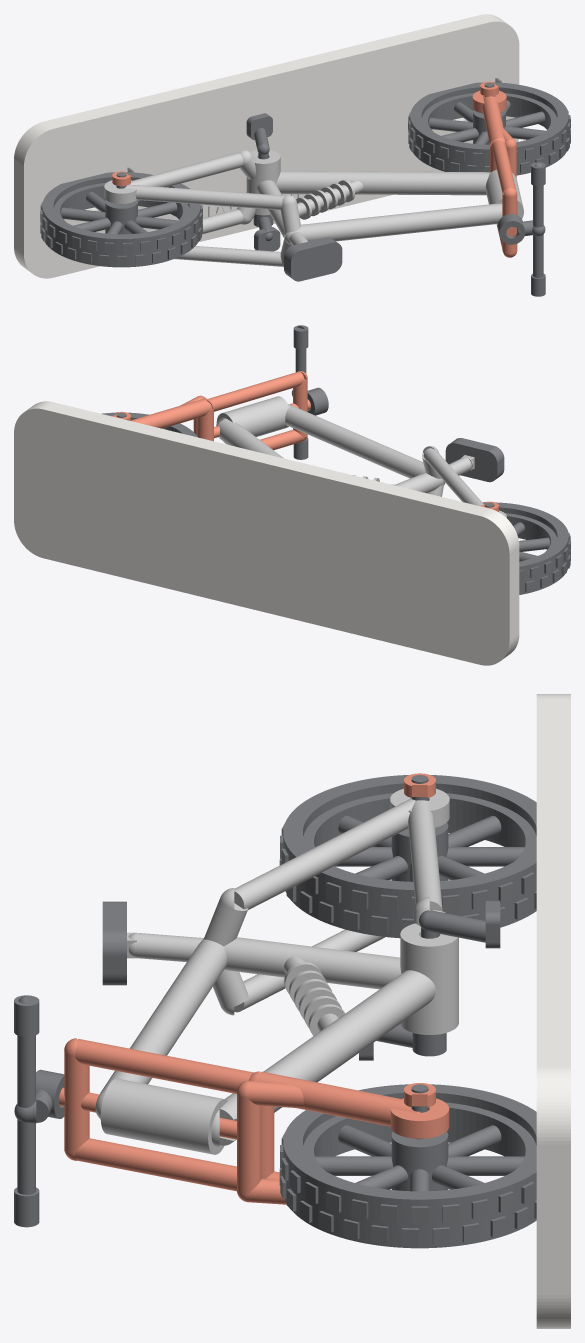
Rendered from dayrally-mini-drop.glb.
3 views of the same model, one above another, from view 1: azimuth 30°, elevation 25°; view 2: azimuth 150°, elevation 25°; view 3: azimuth 270°, elevation 25° (orthographic). The views are drawn at different scales.
Parts seen in each view (by area): view 1: mini-drop-display-base__1, mini-drop-frame__2, mini-wheel-28__8, mini-wheel-28__11, mini-drop-fork__3, mini-drop-cockpit__4, mini-drop-saddle__5, mini-drop-crank-r__6, mini-drop-crank-l__7; view 2: mini-drop-display-base__1, mini-drop-frame__2, mini-drop-fork__3, mini-wheel-28__8, mini-drop-saddle__5, mini-drop-cockpit__4; view 3: mini-drop-frame__2, mini-wheel-28__11, mini-wheel-28__8, mini-drop-display-base__1, mini-drop-fork__3, mini-drop-cockpit__4, mini-drop-crank-r__6, mini-drop-saddle__5, mini-drop-crank-l__7.
Boxes of the visible parts, bbox=[...] form: mini-drop-display-base__1: bbox=[14, 14, 519, 278]; mini-drop-frame__2: bbox=[104, 150, 523, 267]; mini-wheel-28__8: bbox=[40, 172, 202, 267]; mini-wheel-28__11: bbox=[408, 82, 570, 175]; mini-drop-fork__3: bbox=[472, 90, 517, 257]; mini-drop-cockpit__4: bbox=[497, 162, 545, 296]; mini-drop-saddle__5: bbox=[284, 237, 342, 281]; mini-drop-crank-r__6: bbox=[246, 113, 272, 159]; mini-drop-crank-l__7: bbox=[253, 214, 280, 251]; mini-drop-display-base__1: bbox=[14, 401, 519, 665]; mini-drop-frame__2: bbox=[216, 396, 506, 517]; mini-drop-fork__3: bbox=[131, 371, 310, 450]; mini-wheel-28__8: bbox=[482, 502, 570, 594]; mini-drop-saddle__5: bbox=[445, 438, 504, 482]; mini-drop-cockpit__4: bbox=[291, 325, 328, 459]; mini-drop-frame__2: bbox=[95, 788, 458, 1154]; mini-wheel-28__11: bbox=[279, 1084, 536, 1248]; mini-wheel-28__8: bbox=[279, 775, 536, 938]; mini-drop-display-base__1: bbox=[536, 694, 570, 1328]; mini-drop-fork__3: bbox=[59, 1038, 449, 1204]; mini-drop-cockpit__4: bbox=[14, 995, 64, 1227]; mini-drop-crank-r__6: bbox=[419, 900, 500, 948]; mini-drop-saddle__5: bbox=[102, 901, 126, 985]; mini-drop-crank-l__7: bbox=[359, 1024, 446, 1060].
Size of the model in its own units: 0.2075 by 0.058 by 0.1141.
